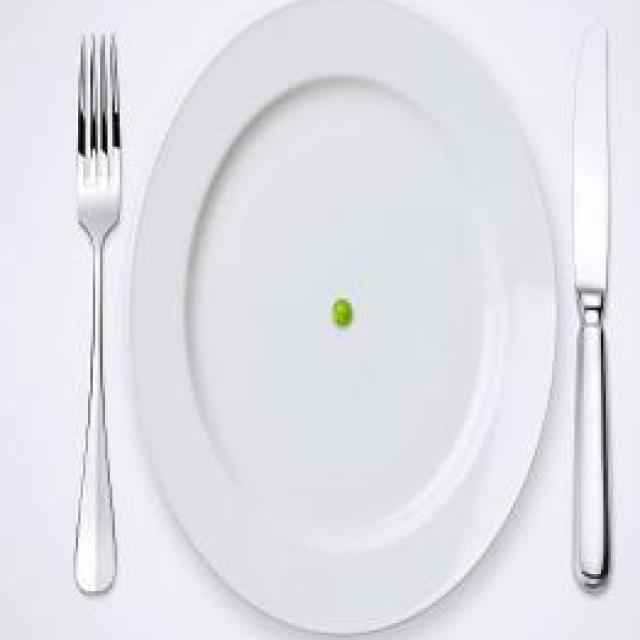knife: (574, 19, 616, 594)
